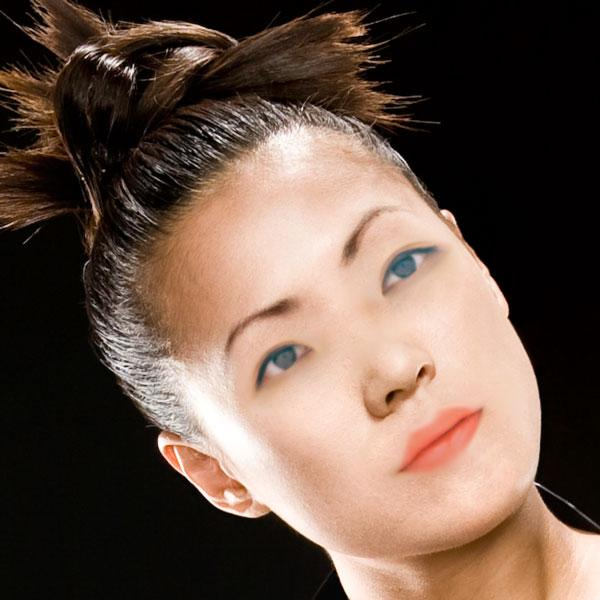Eyes: (245, 322, 320, 399), (372, 229, 448, 301)
